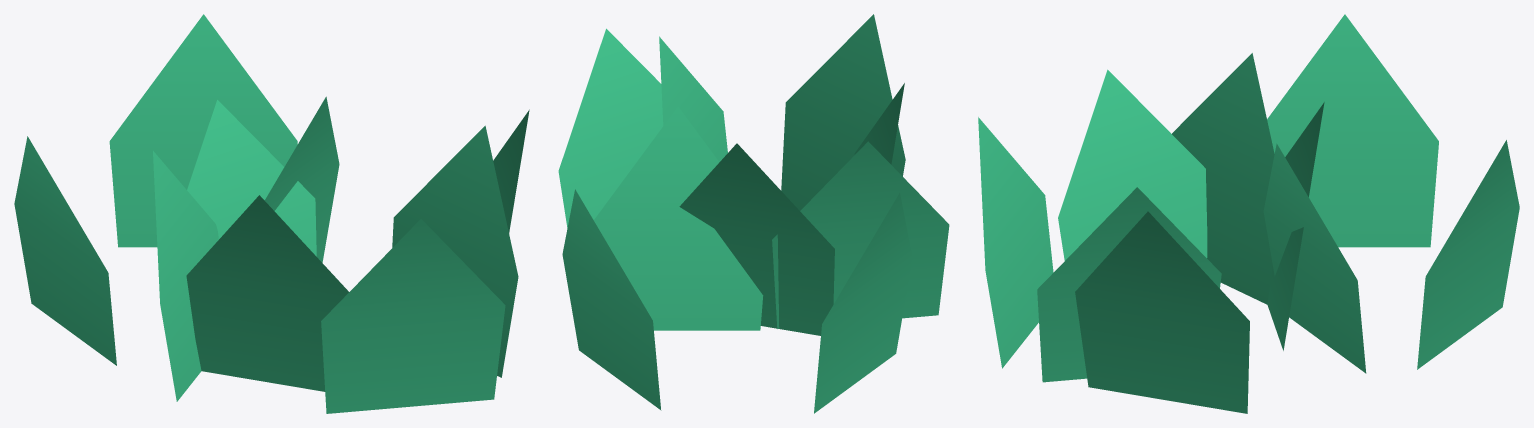
File: Mowed High LOD_050_2.glb
The picture shows the model from 3 angles, left to right: view 1: azimuth 30°, elevation 25°; view 2: azimuth 150°, elevation 25°; view 3: azimuth 270°, elevation 25°; orthographic projection. The views are drawn at different scales.
Visible parts, largest first — view 1: Mowed Grass High LOD; view 2: Mowed Grass High LOD; view 3: Mowed Grass High LOD.
Boxes of the visible parts, <box> form: Mowed Grass High LOD: <box>14,14,529,413</box>; Mowed Grass High LOD: <box>558,14,949,413</box>; Mowed Grass High LOD: <box>978,14,1519,413</box>.
Size of the model in its own units: 0.3814 by 0.19 by 0.4428.
